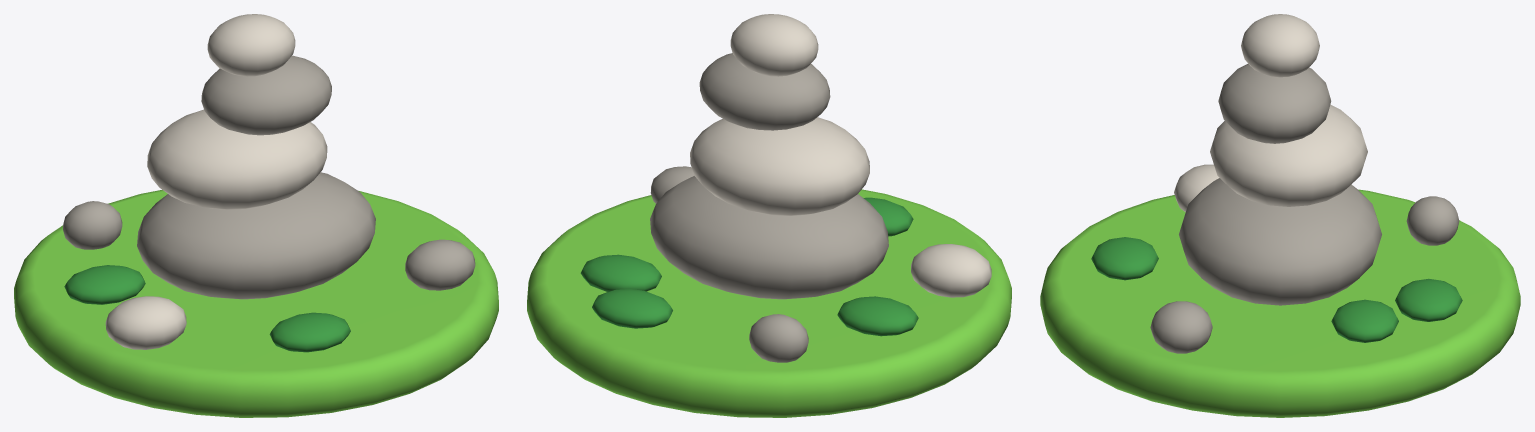
Rendered from DecorStones.fbx.
The picture shows the model from 3 angles, left to right: view 1: azimuth 30°, elevation 25°; view 2: azimuth 150°, elevation 25°; view 3: azimuth 270°, elevation 25°; orthographic projection.
Visible parts, largest first — view 1: DecorStones mesh; view 2: DecorStones mesh; view 3: DecorStones mesh.
Part boxes in pixels (<box>): DecorStones mesh: <box>14,14,498,417</box>; DecorStones mesh: <box>527,14,1011,417</box>; DecorStones mesh: <box>1040,14,1520,417</box>.
Size of the model in its own units: 0.34 by 0.2347 by 0.34.
